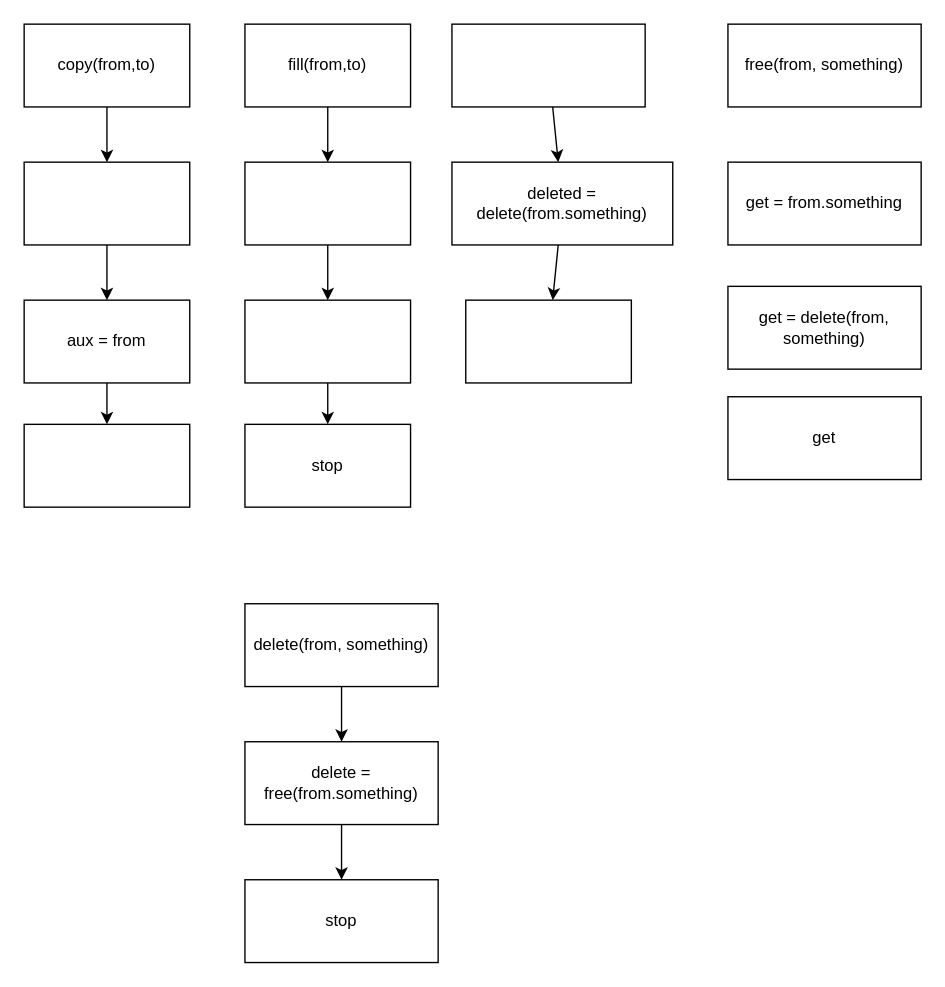
Some shapes in this 945 by 987 pixel diagram are drawn without their labels. Here are the shapes that lost their labels. From the top down, the centre of each, then its label:
At point (548, 65): "remove(from, something)".
At point (106, 203): "aux = Construct()".
At point (327, 203): "aux = from.something".
At point (327, 341): "to.something = aux".
At point (547, 341): "deleted".
At point (106, 465): "tp = aux".
